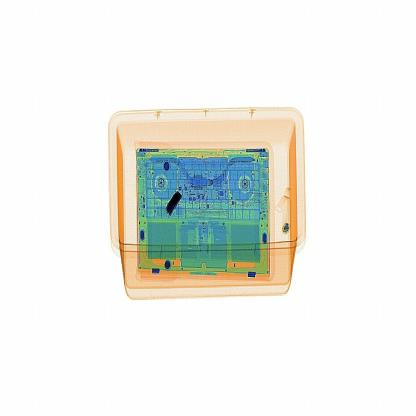scissors: (160, 192, 189, 221)
